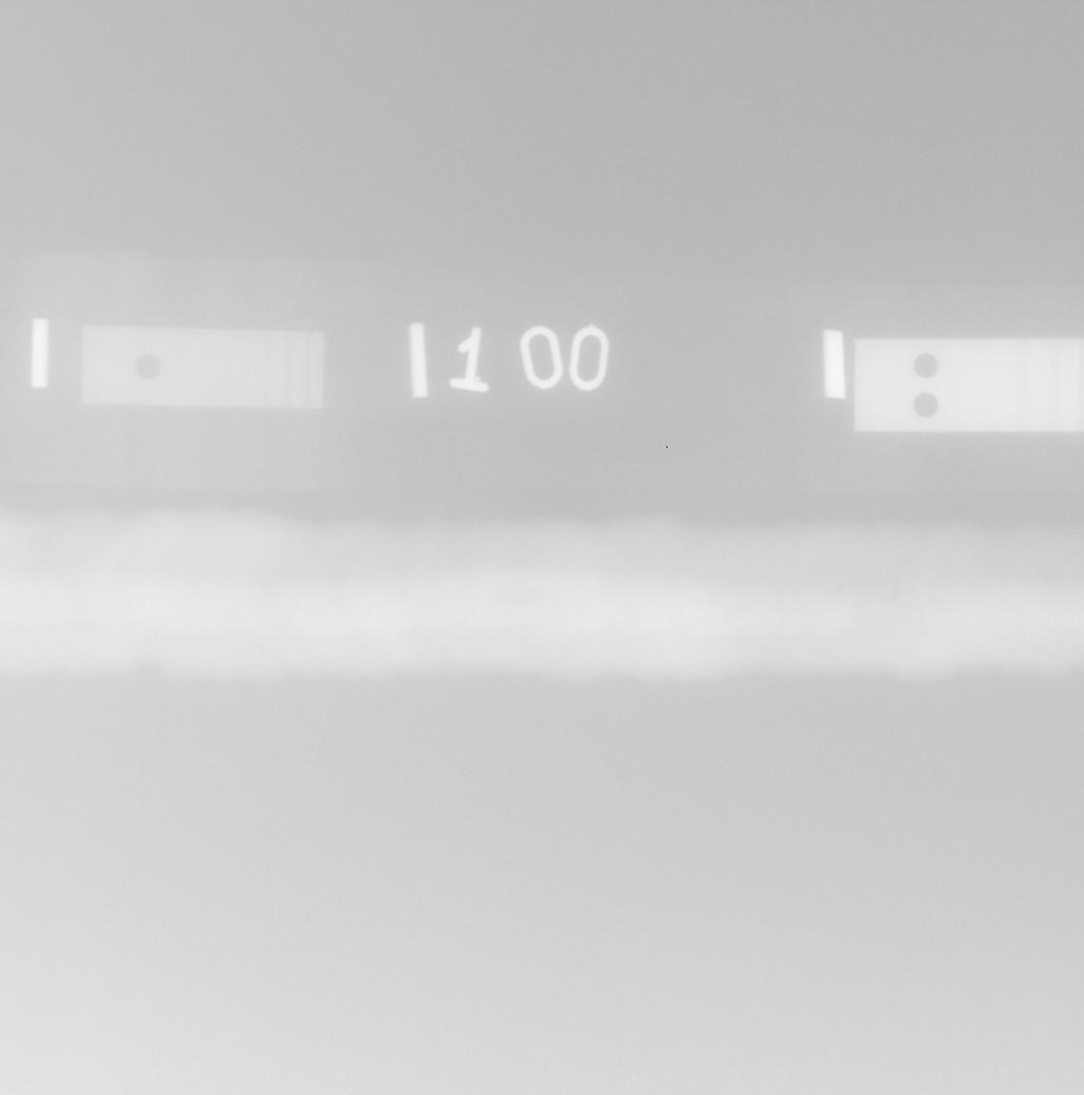Pore/Porosity: (837, 585, 844, 591), (894, 582, 899, 584)
